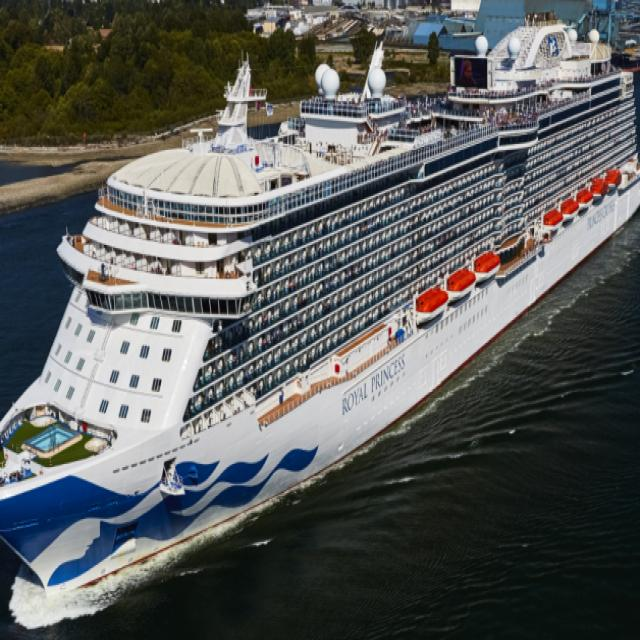cruises: (1, 9, 640, 617)
